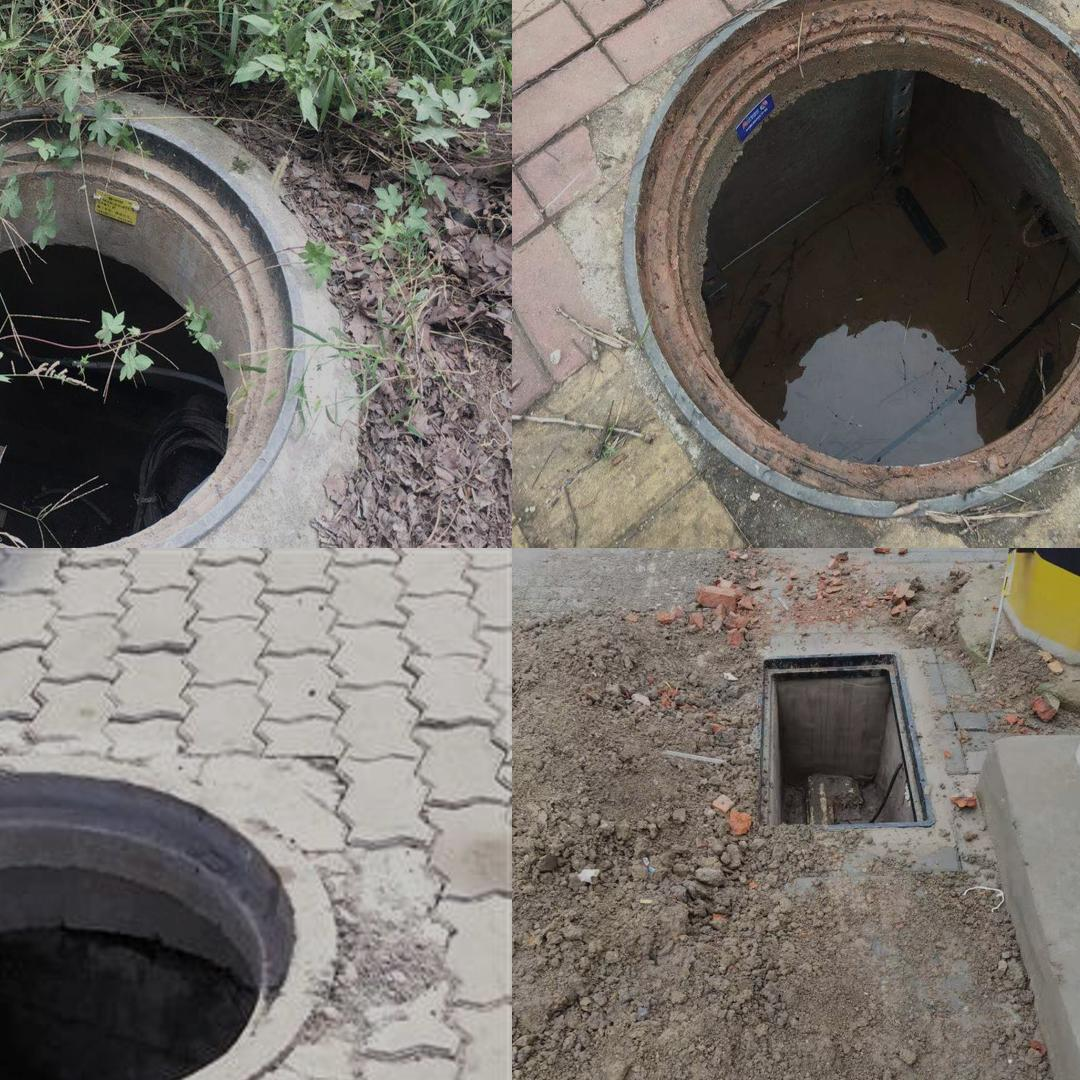lose: (618, 0, 1080, 497), (0, 88, 329, 540), (0, 739, 372, 1080), (712, 632, 965, 887)
